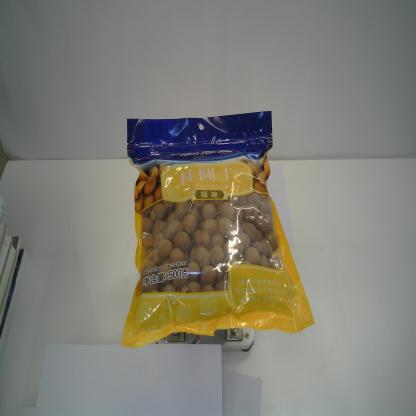Dried Food: (121, 110, 316, 350)
